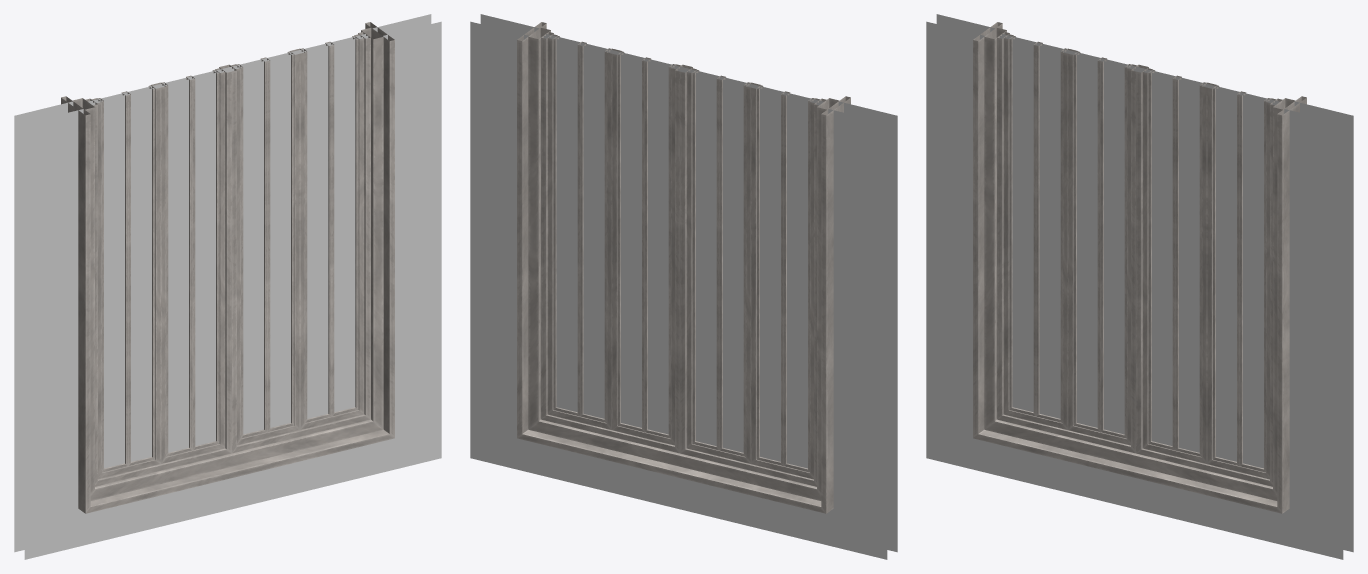
File: Wall_Window_I_E.fbx
The picture shows the model from 3 angles, left to right: view 1: azimuth 30°, elevation 25°; view 2: azimuth 150°, elevation 25°; view 3: azimuth 330°, elevation 25°; orthographic projection.
Visible parts, largest first — view 1: Wall_Window_I_E; view 2: Wall_Window_I_E; view 3: Wall_Window_I_E.
Part boxes in pixels (x1,y1,x2,y2): Wall_Window_I_E: (14,14,441,559); Wall_Window_I_E: (470,14,897,559); Wall_Window_I_E: (926,14,1353,559).
Bounding box in the file's own units: 6 × 0.6115 × 6.
